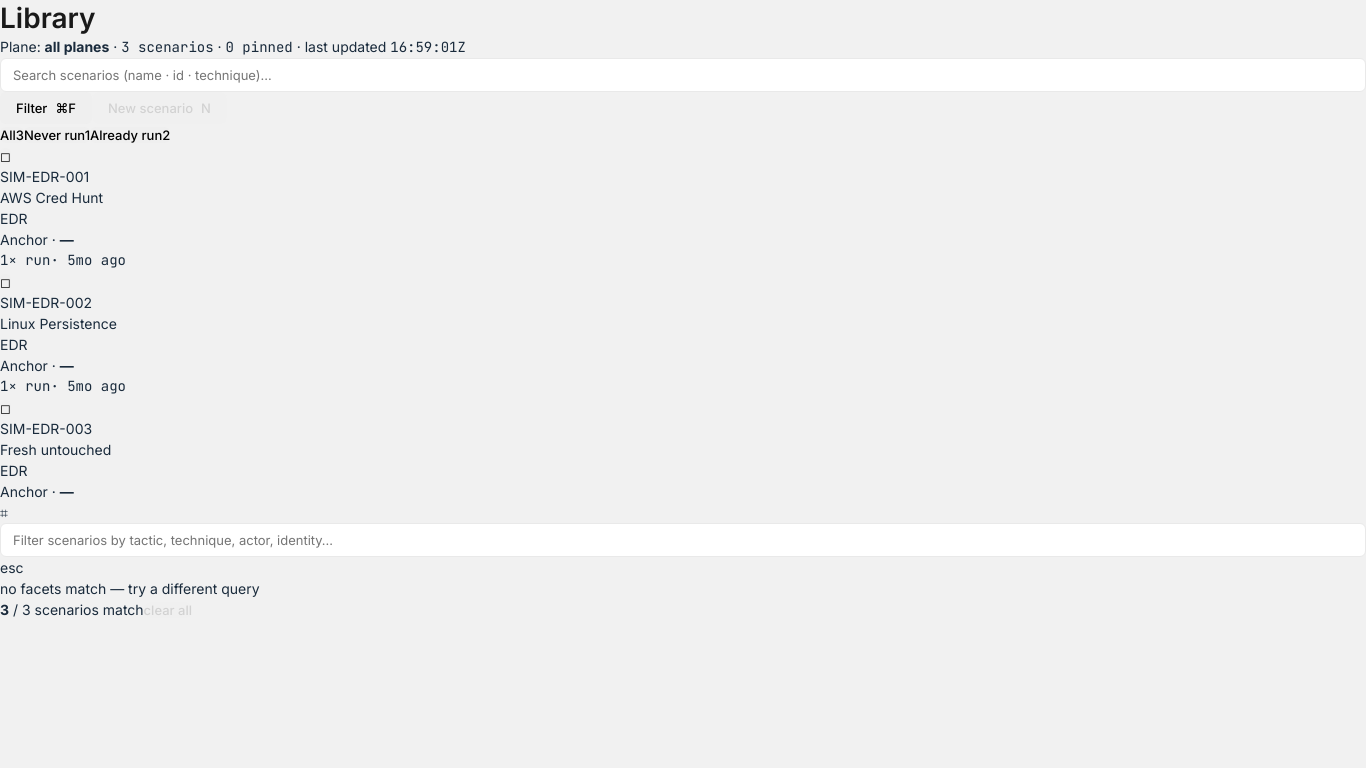
Test case: OperationsView history mode strip › clicking "Never run" filters out scenarios with history
Expected: the text "AWS Cred Hunt" is shown, [0,189,103,206]
Click the tab "Never run1" at (57,135), box [24,127,90,143]
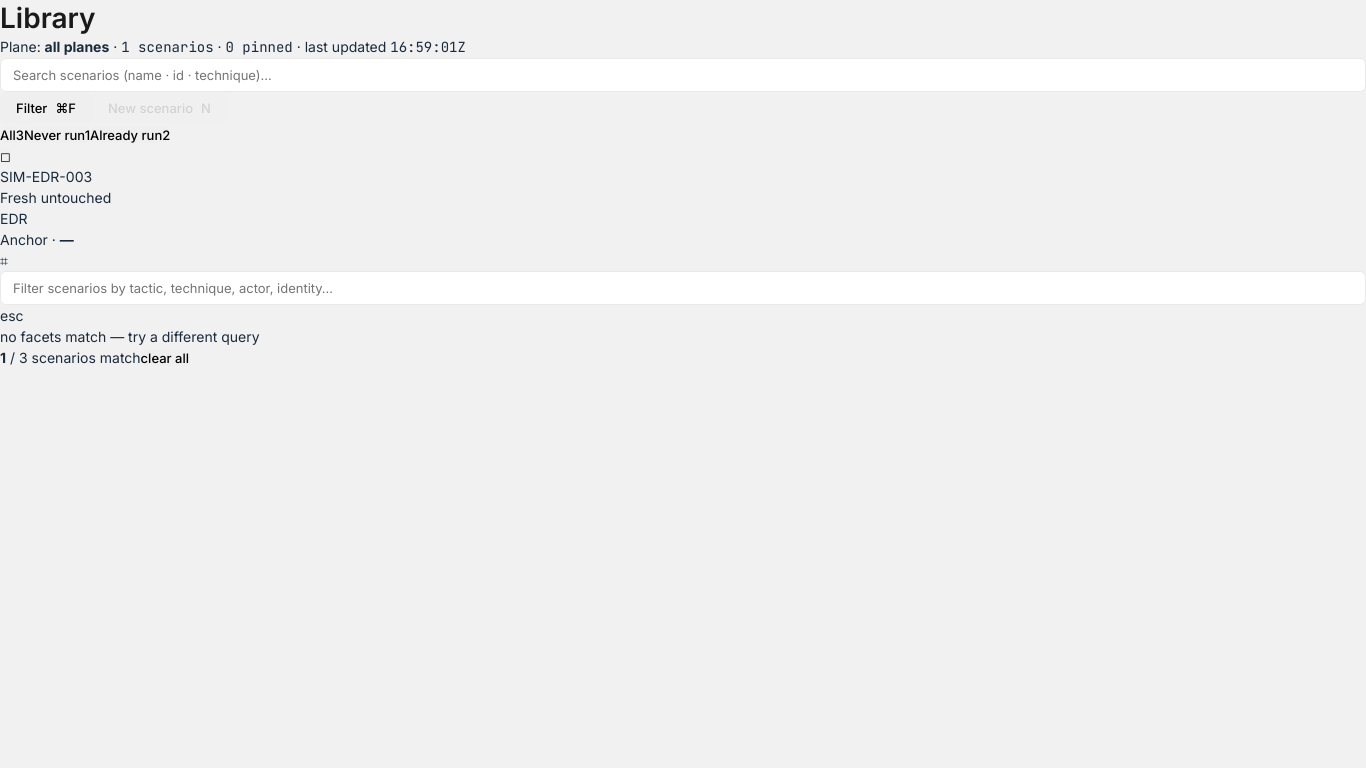
Expected: the text "Fresh untouched" is shown, [0,189,111,206]
Result: the button "AWS Cred Hunt" is gone
Result: the button "Linux Persistence" is gone
